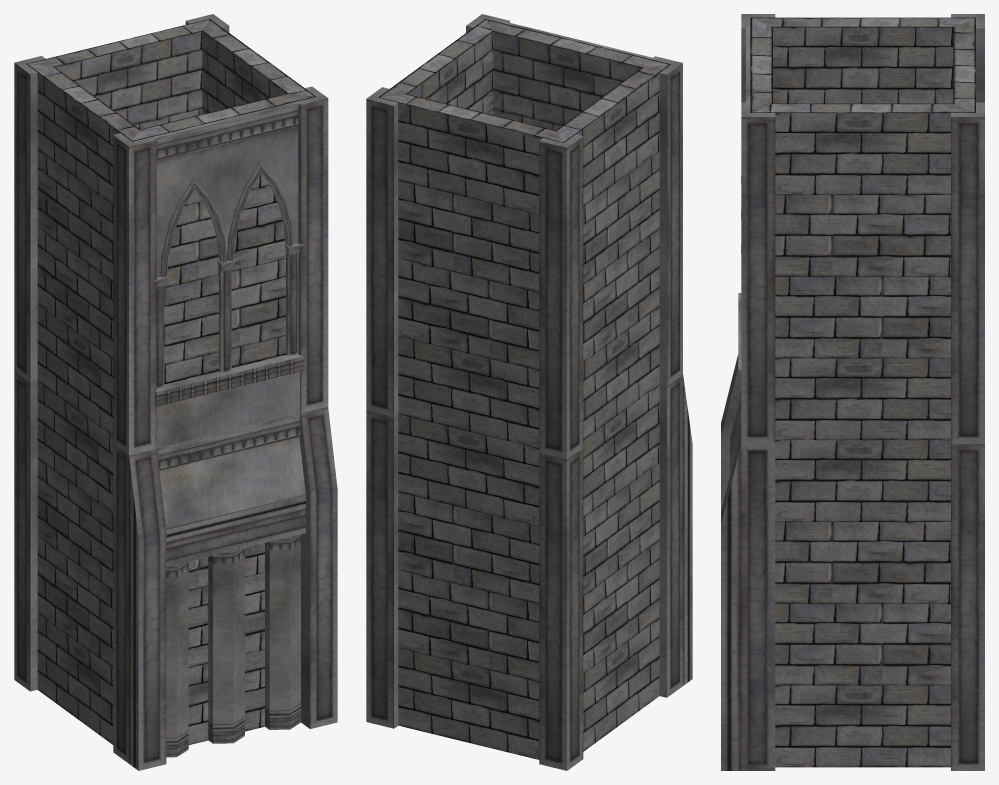
File: tower_base_01.fbx
3 renders of one model, left to right at view 1: azimuth 30°, elevation 25°; view 2: azimuth 150°, elevation 25°; view 3: azimuth 270°, elevation 25°, orthographic. The views are drawn at different scales.
Visible parts, largest first — view 1: tower_base_01; view 2: tower_base_01; view 3: tower_base_01.
Boxes of the visible parts, x1,y1,x2,y2 form: tower_base_01: (14,14,337,770); tower_base_01: (366,14,692,770); tower_base_01: (721,14,984,770).
Size of the model in its own units: 1080 by 3200 by 1170.
